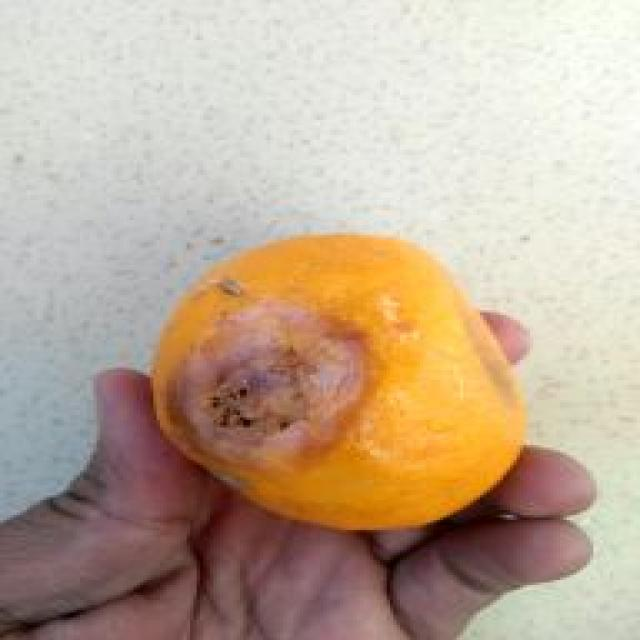Bad_Orange: (153, 235, 525, 529)
